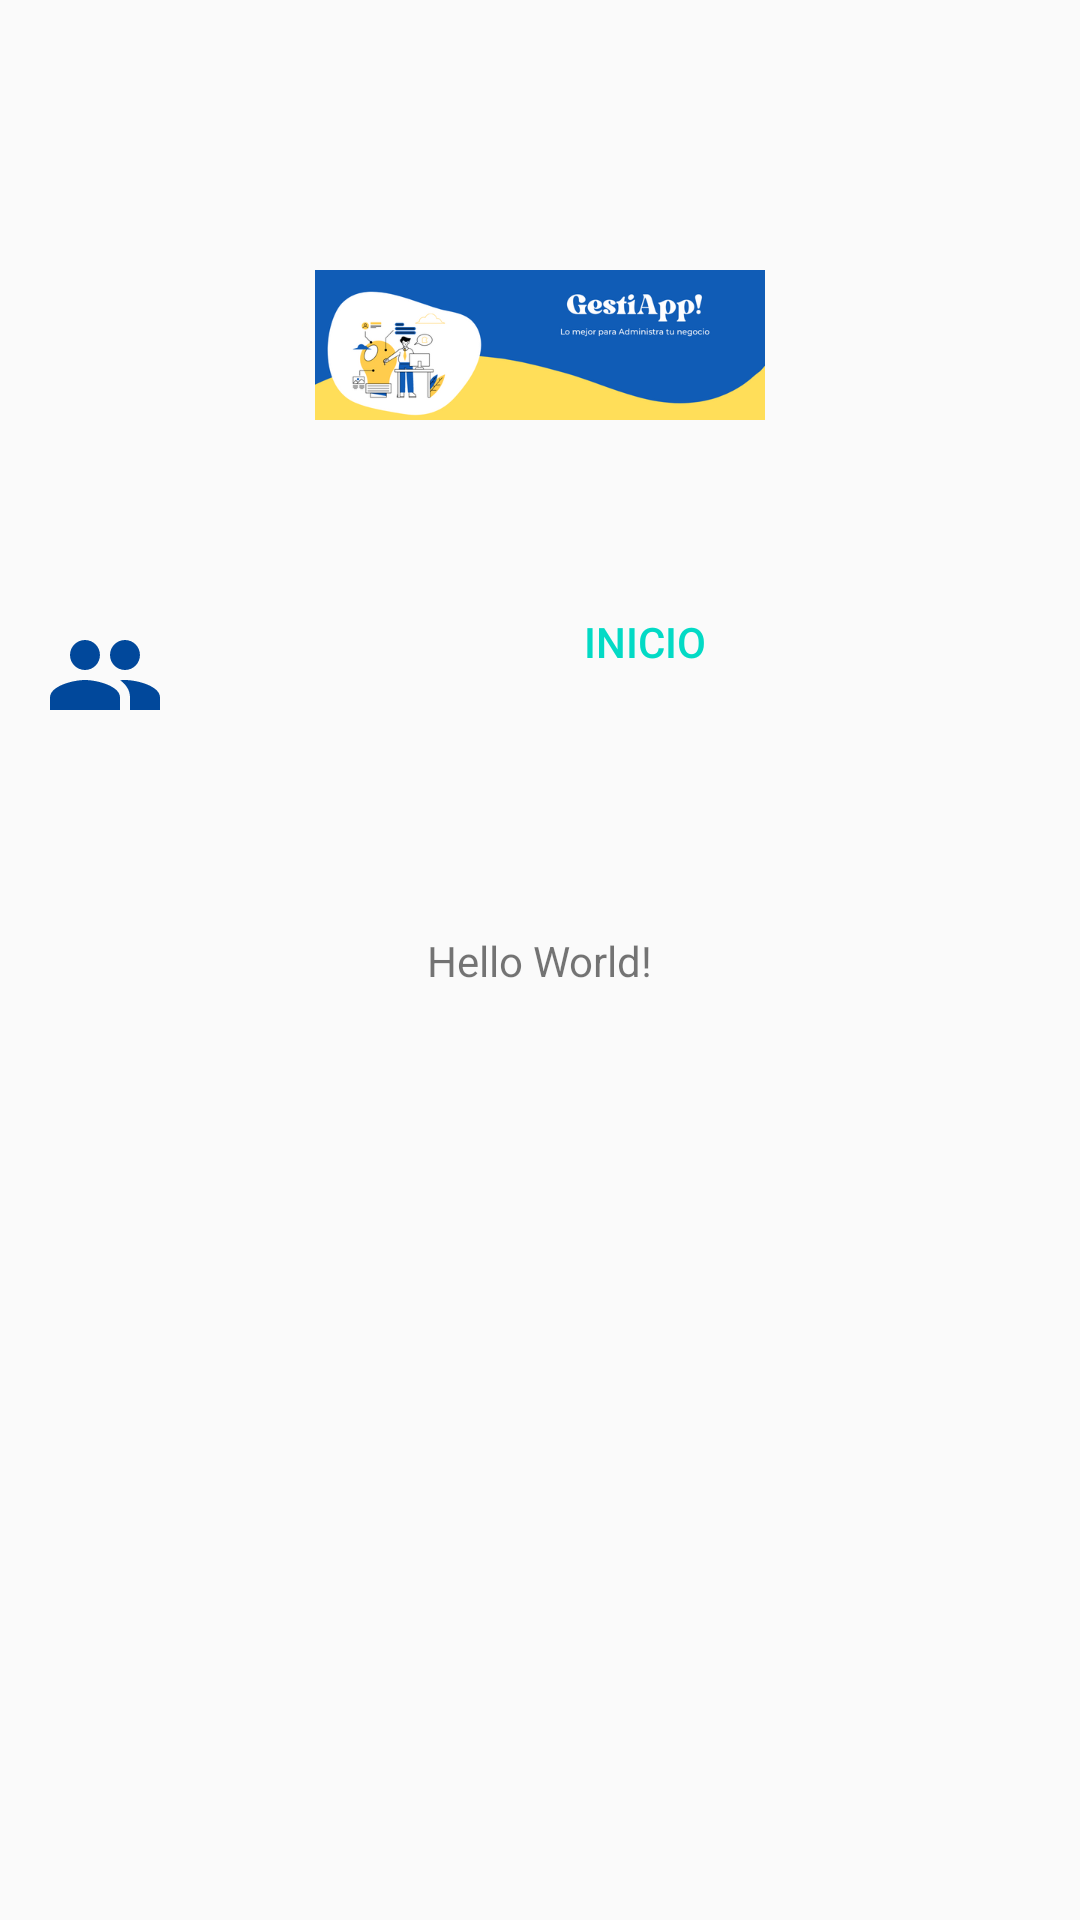

Point at icon controls on the screen. Image size 1080px×1920px, points as [x,y].
people: [105,675]
